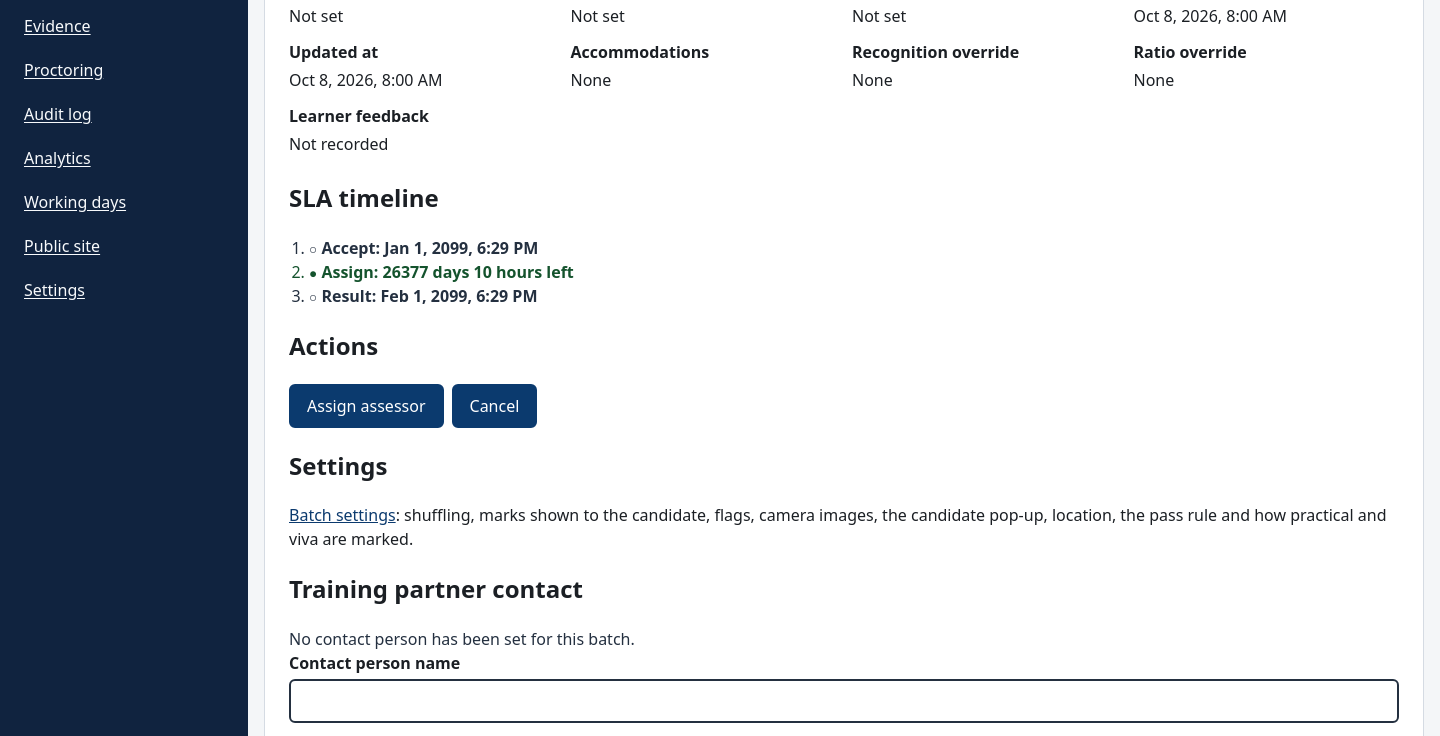
Test: shows non-blocking assign warnings
(page scrolled)
Step 1. Click the button "Assign assessor" → (366, 406), box x1=289 y1=384 x2=444 y2=428
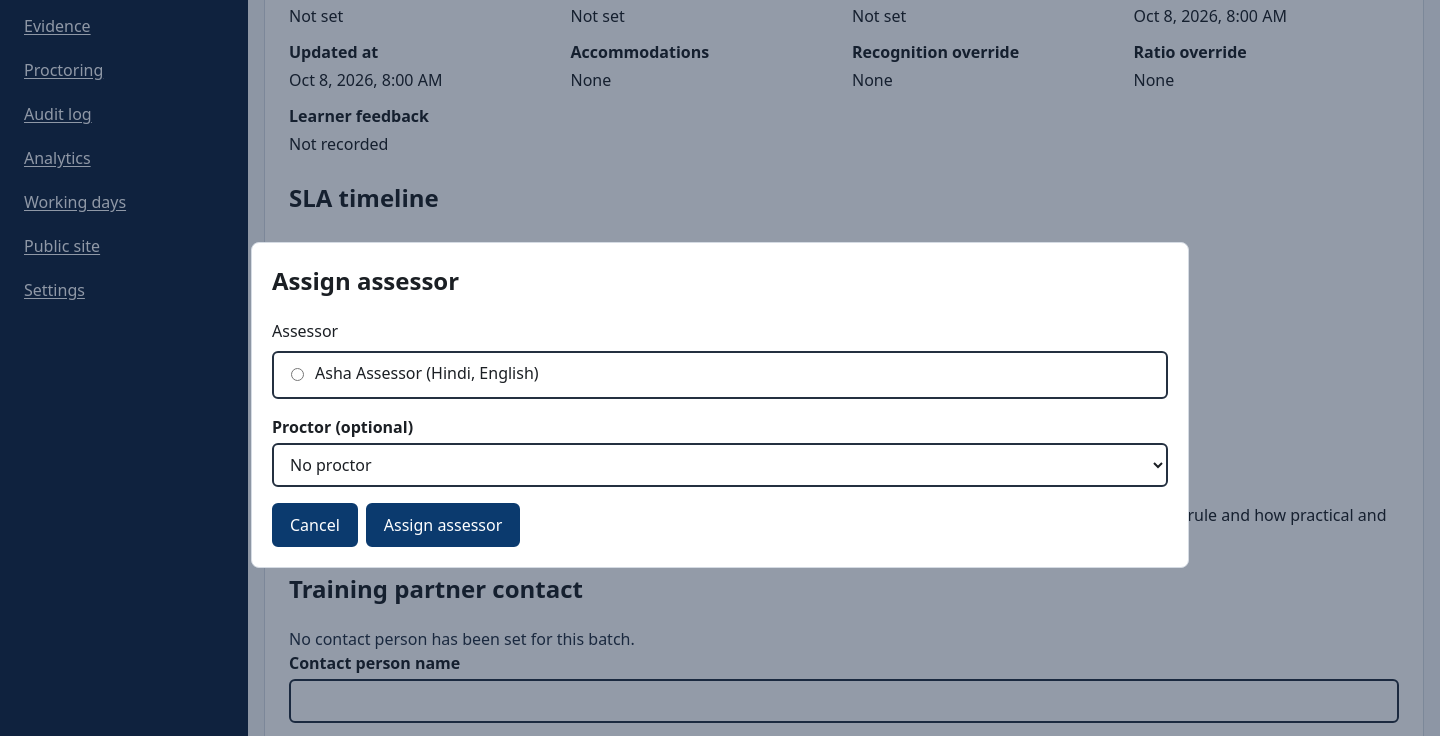
Step 2. Click the radio button labelled "Asha Assessor (Hindi, English)" → (298, 374), box x1=291 y1=368 x2=304 y2=381
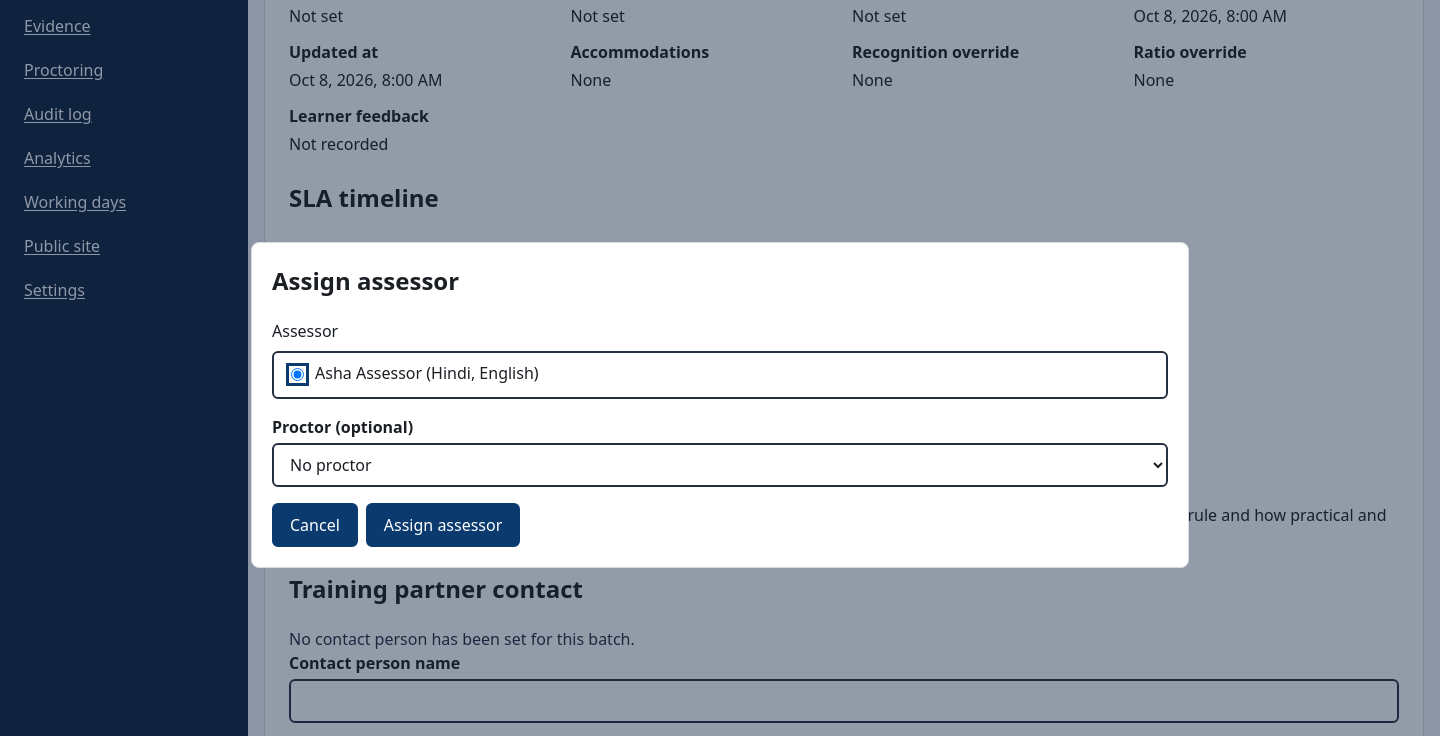
Step 3. Click the button "Assign assessor" → (443, 525), box x1=366 y1=503 x2=520 y2=547
(page scrolled)
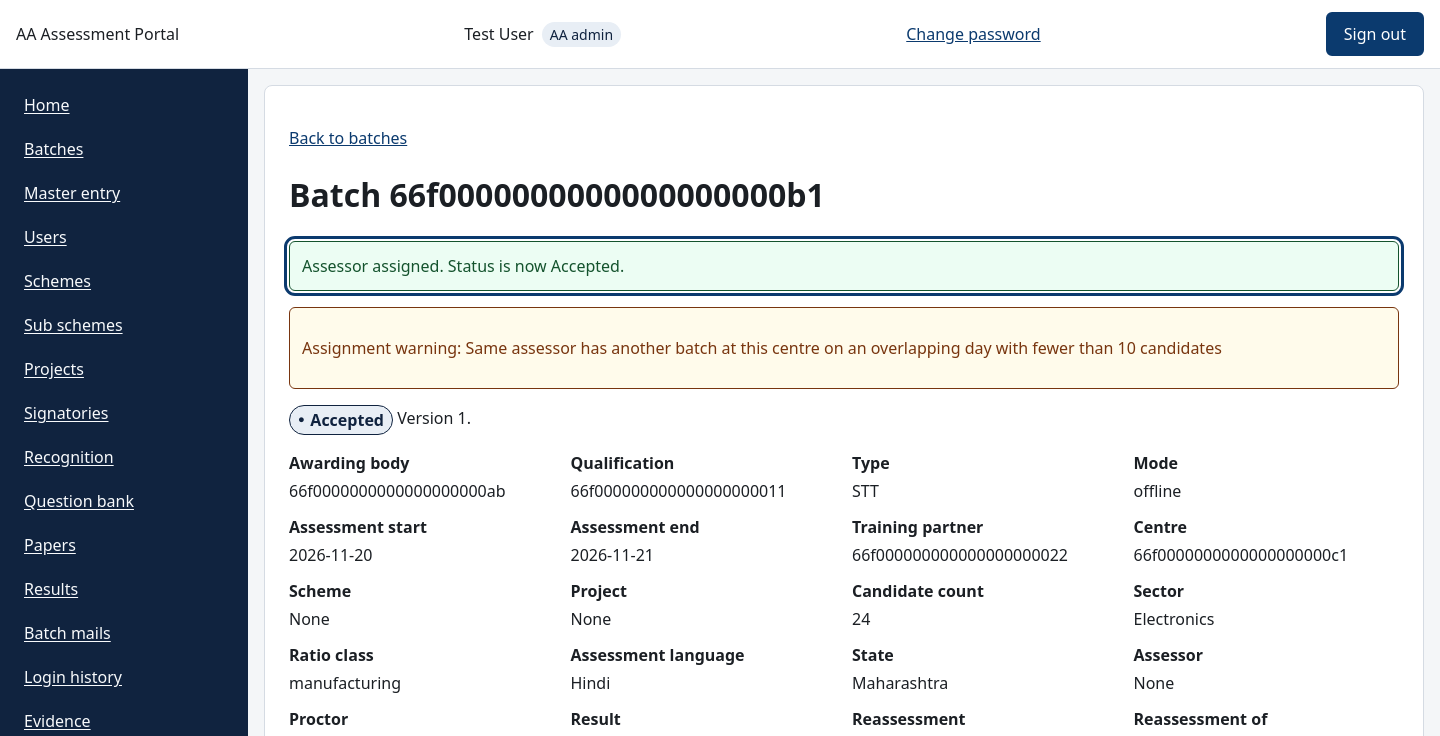
Check: the text "Assignment warning" shows "fewer than 10 candidates", box x1=466 y1=337 x2=1222 y2=359
